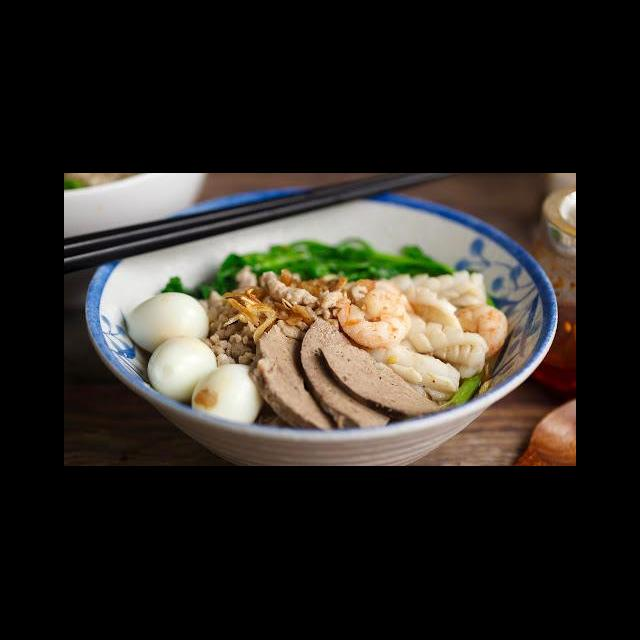gan: (313, 336, 462, 426), (294, 314, 398, 436), (244, 314, 340, 436)
muc: (381, 310, 491, 380), (341, 266, 490, 314), (359, 340, 462, 404)
thit bam: (188, 262, 274, 372), (252, 266, 350, 342)
tom: (333, 286, 415, 354), (446, 298, 511, 362)
trung: (143, 332, 225, 408), (122, 290, 212, 354), (186, 358, 265, 429)
